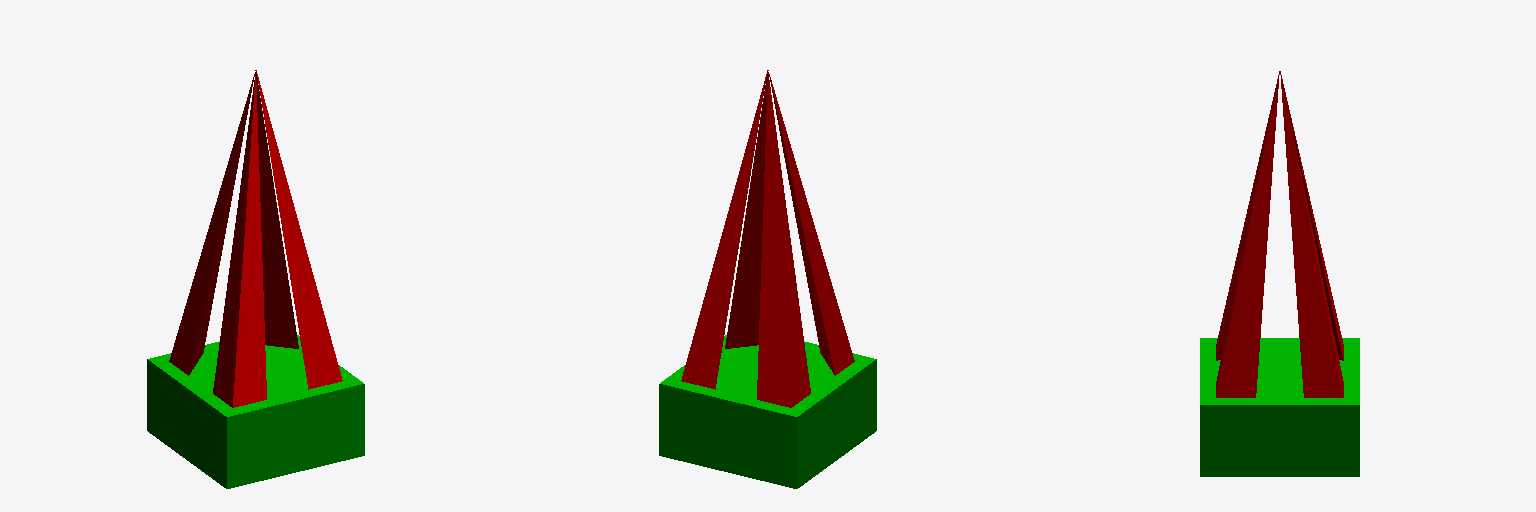
Rendered from antenna.obj.
The picture shows the model from 3 angles: view 1: azimuth 30°, elevation 25°; view 2: azimuth 150°, elevation 25°; view 3: azimuth 270°, elevation 25°; orthographic projection.
Parts seen in each view (by area): view 1: Plane; view 2: Plane; view 3: Plane.
Part boxes in pixels (x1,y1,x2,y2): Plane: (147, 70, 364, 488); Plane: (659, 70, 876, 488); Plane: (1200, 71, 1359, 476).
Size of the model in its own units: 40 by 104 by 40.